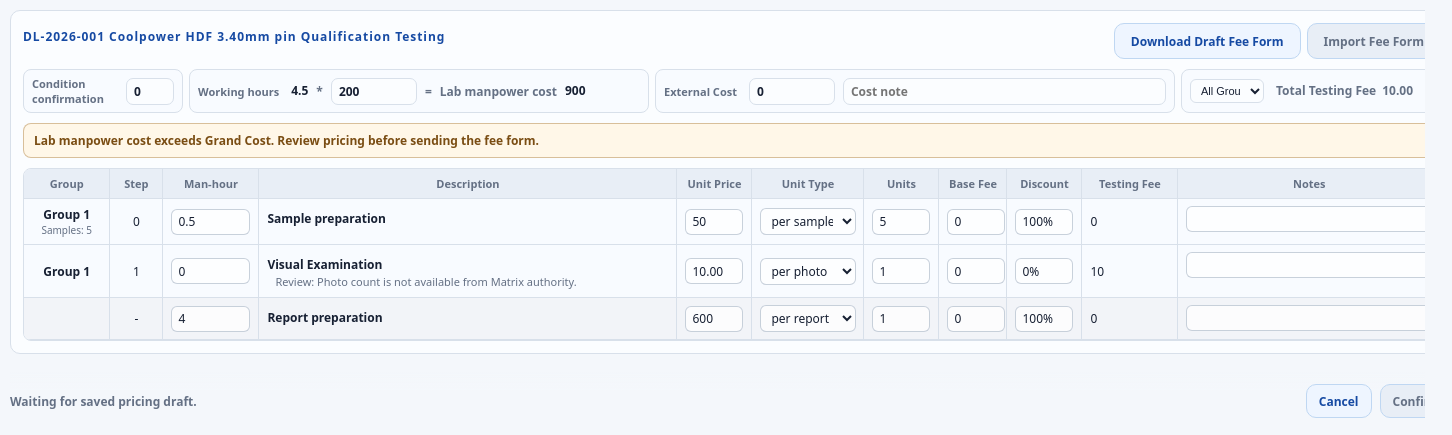
Test: FeeEvaluationReviewExportPage › publishes Fee Form when the current page matches confirmed Fee authority
The width and height of the screenshot is (1452, 435).
Click the button "Download Draft Fee Form" at point(1207, 41), box [1114,23,1301,59]
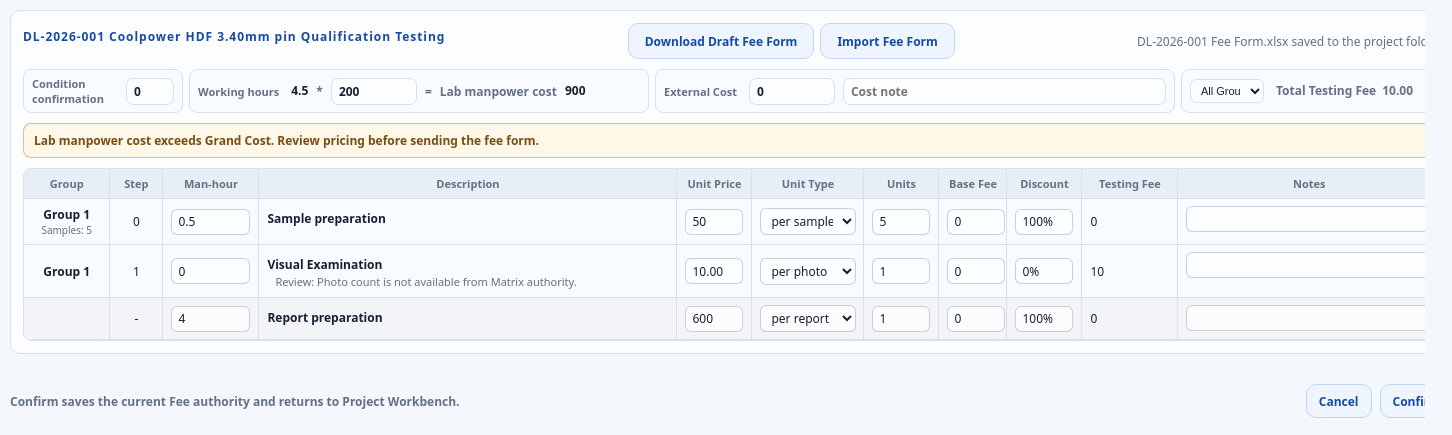
Check: the text "DL-2026-001 Fee Form.xlsx saved to the project folder." is shown, box [1137,32,1441,50]
